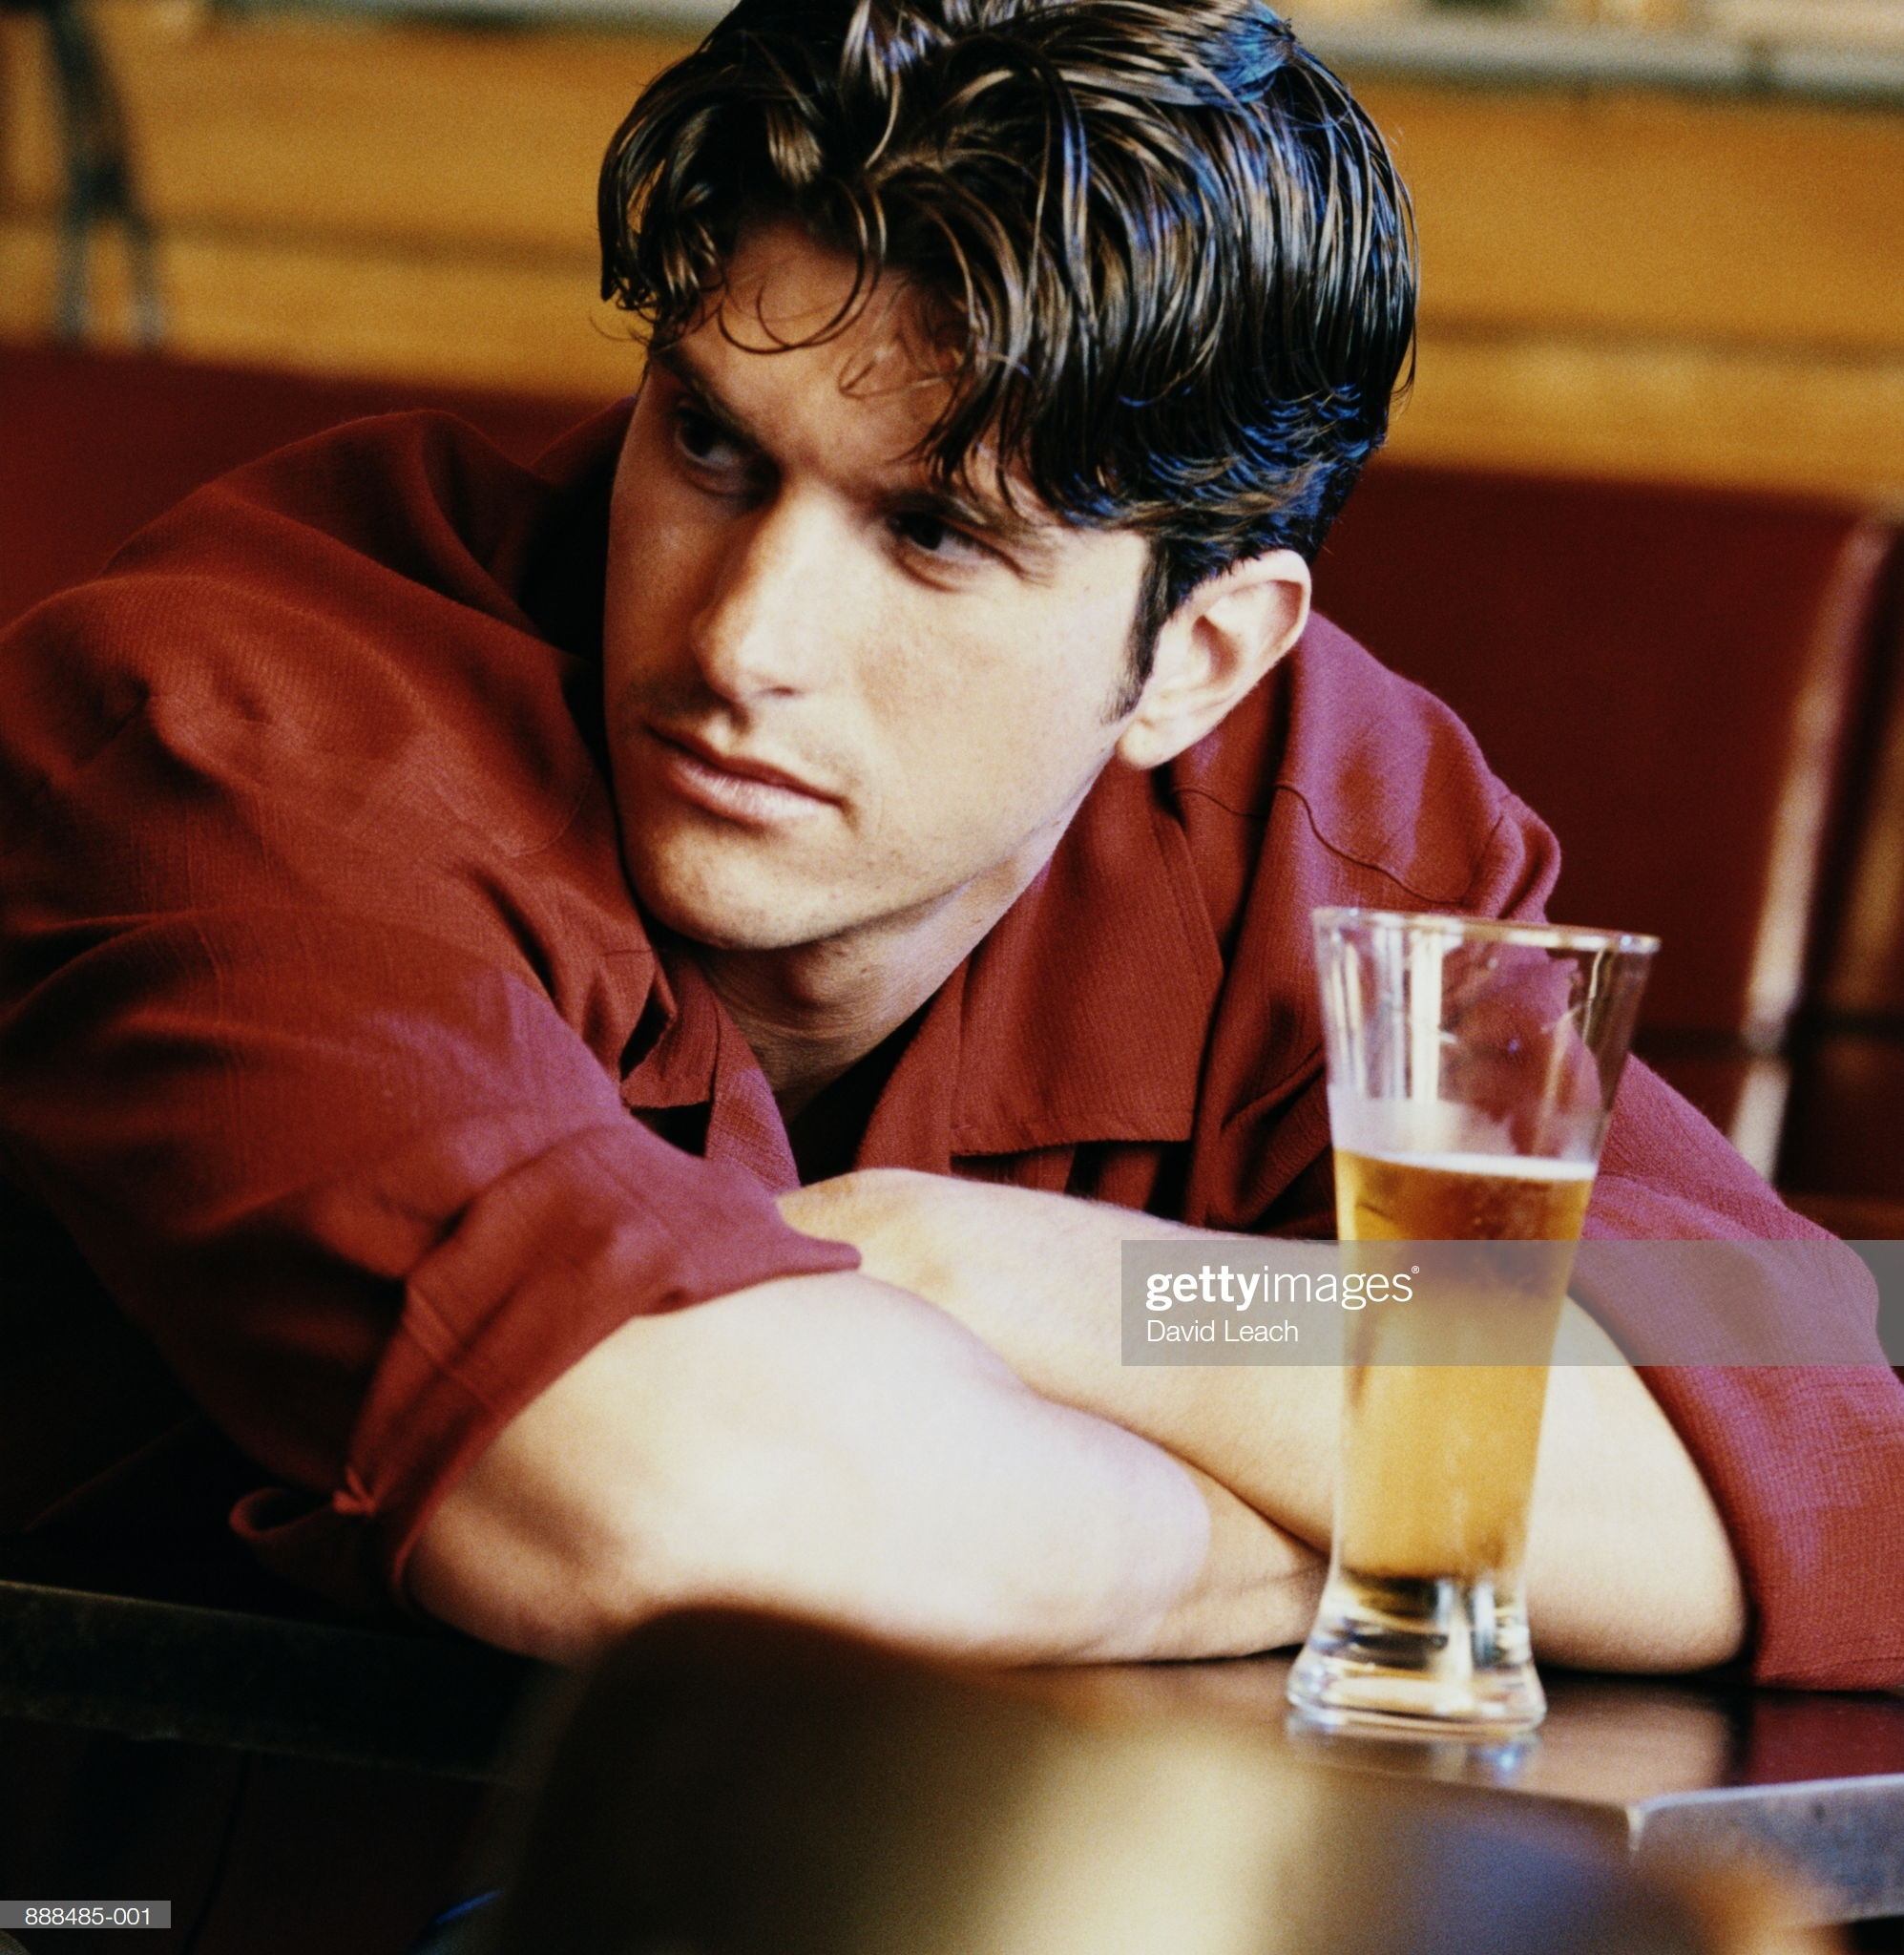glassBeer: (1218, 915, 1663, 1723)
